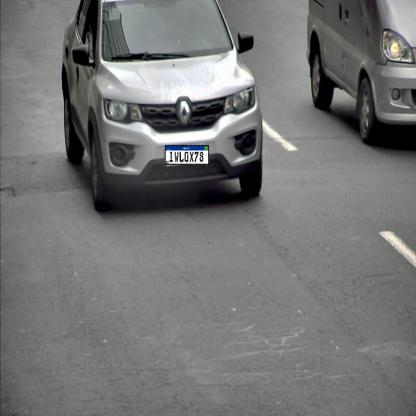PlacaM: (165, 145, 209, 165)
